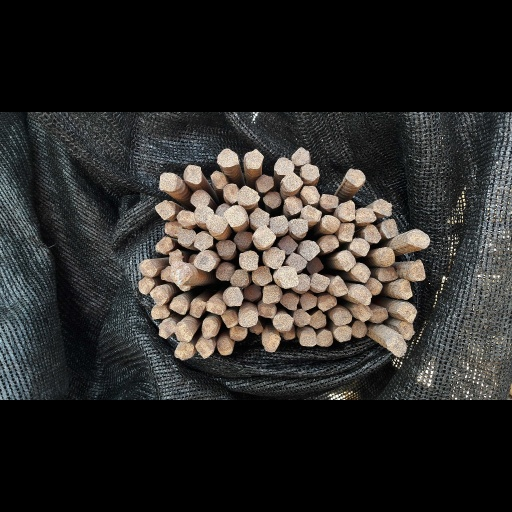dipstick: (274, 272, 299, 313), (385, 393, 407, 436), (252, 203, 275, 243), (396, 335, 417, 376), (224, 166, 247, 202), (170, 267, 191, 304), (350, 307, 371, 344), (407, 208, 429, 243), (263, 240, 284, 276), (281, 108, 303, 142), (238, 344, 258, 381), (298, 228, 319, 263), (238, 247, 259, 282), (345, 100, 365, 136), (218, 64, 239, 98), (244, 66, 263, 103), (239, 130, 259, 165), (331, 289, 348, 330), (373, 240, 394, 273), (149, 311, 170, 344), (249, 170, 269, 204), (252, 273, 272, 307), (274, 80, 295, 112), (206, 184, 227, 216), (234, 209, 252, 246), (351, 267, 369, 304), (183, 94, 202, 129), (288, 189, 307, 224), (320, 181, 339, 216), (195, 248, 214, 283), (261, 394, 280, 429), (317, 324, 337, 357), (376, 273, 398, 303), (320, 217, 339, 251), (311, 286, 330, 320), (409, 264, 426, 302), (395, 297, 412, 335), (192, 168, 212, 200), (155, 159, 175, 191), (268, 184, 288, 216), (173, 410, 195, 439), (215, 228, 236, 258), (331, 348, 352, 378), (278, 219, 297, 252), (223, 312, 242, 345), (190, 137, 210, 168), (160, 107, 177, 143), (284, 149, 302, 183), (303, 165, 321, 199), (338, 157, 355, 193), (337, 196, 354, 232), (338, 245, 355, 281), (175, 374, 192, 410), (196, 403, 213, 439), (372, 155, 393, 184), (194, 213, 213, 245), (350, 224, 369, 256), (206, 328, 225, 360), (351, 339, 370, 371), (370, 347, 389, 379), (292, 62, 310, 95), (301, 130, 319, 163), (177, 206, 195, 239), (380, 190, 398, 223), (231, 279, 249, 312), (299, 320, 317, 353), (355, 169, 376, 197), (219, 354, 239, 383), (364, 200, 381, 234), (201, 367, 218, 401), (210, 103, 226, 139), (216, 267, 232, 303), (287, 248, 305, 280), (334, 378, 352, 410), (399, 369, 415, 405), (176, 174, 195, 204), (139, 264, 158, 294), (292, 350, 311, 380), (310, 351, 327, 384), (254, 111, 274, 139), (274, 357, 292, 388), (319, 145, 338, 174), (262, 311, 281, 340), (189, 333, 206, 365), (222, 126, 238, 159), (159, 370, 175, 403), (352, 369, 368, 402), (317, 386, 334, 417), (366, 296, 383, 327), (301, 92, 319, 121), (262, 140, 280, 169), (258, 338, 276, 367), (156, 221, 173, 251), (229, 380, 247, 408), (244, 308, 262, 336), (281, 321, 297, 352), (151, 342, 170, 368), (170, 330, 187, 359), (217, 400, 232, 432), (295, 287, 309, 321), (165, 193, 180, 224), (307, 258, 323, 287), (300, 390, 317, 417), (137, 295, 153, 323), (159, 278, 175, 303), (167, 246, 182, 271), (281, 380, 295, 406), (214, 165, 231, 185), (249, 371, 263, 395), (187, 251, 197, 271)
